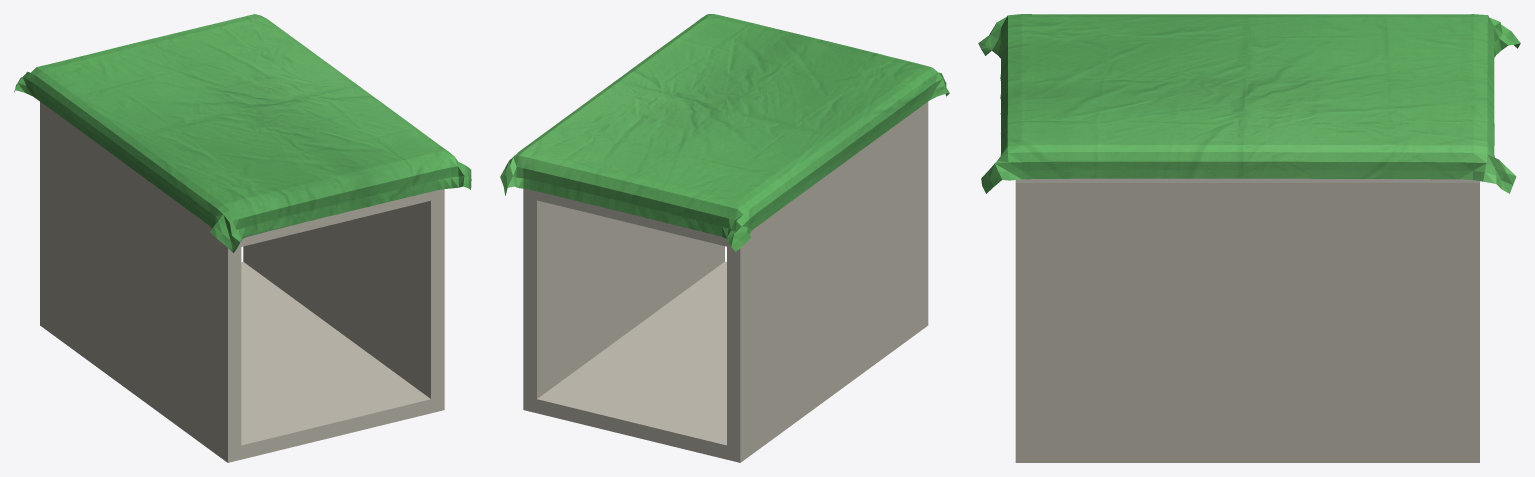
3 renders of one model, left to right at view 1: azimuth 30°, elevation 25°; view 2: azimuth 150°, elevation 25°; view 3: azimuth 270°, elevation 25°, orthographic. The views are drawn at different scales.
Visible parts, largest first — view 1: 立方体, 平面; view 2: 立方体, 平面; view 3: 立方体, 平面, 立方体.001.
Part boxes in pixels (<box>): 立方体: <box>40,102,444,462</box>; 平面: <box>14,14,471,252</box>; 立方体: <box>523,102,928,462</box>; 平面: <box>500,14,949,252</box>; 立方体: <box>1015,182,1479,462</box>; 平面: <box>978,14,1520,193</box>; 立方体.001: <box>1015,178,1479,182</box>.
Size of the model in its own units: 0.9472 by 1.4 by 0.9082.
3 materials, 1 textured.
